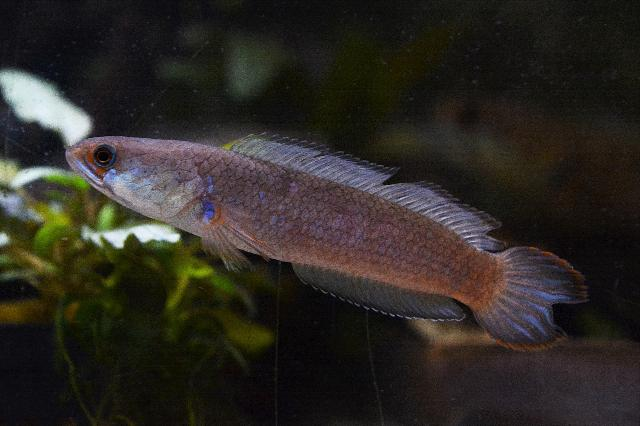Mulut: (188, 196, 286, 296), (59, 135, 117, 197)
Sirip Anal: (283, 256, 471, 330)
Sirip Ekor: (469, 242, 596, 360)
Sirip Punggung: (216, 126, 506, 260)
